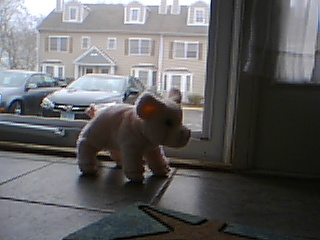piggy: (74, 85, 192, 183)
